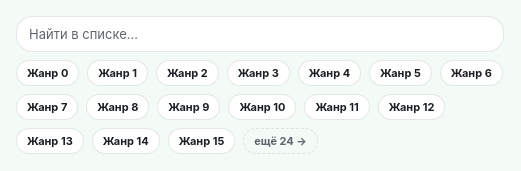
it: выбор из справочника › поиск находит вариант, которого не видно в первом экране
This screenshot has width=521, height=171.
In the field with placeholder "Найти в списке…": [260, 34] box [16,16,504,52], type "жанр 39"
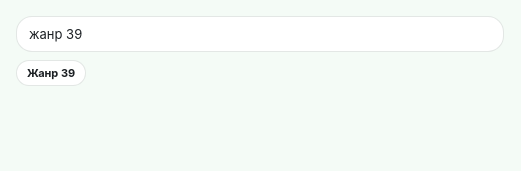
Now the button "Жанр 39" is shown, box [16,60,86,86]
